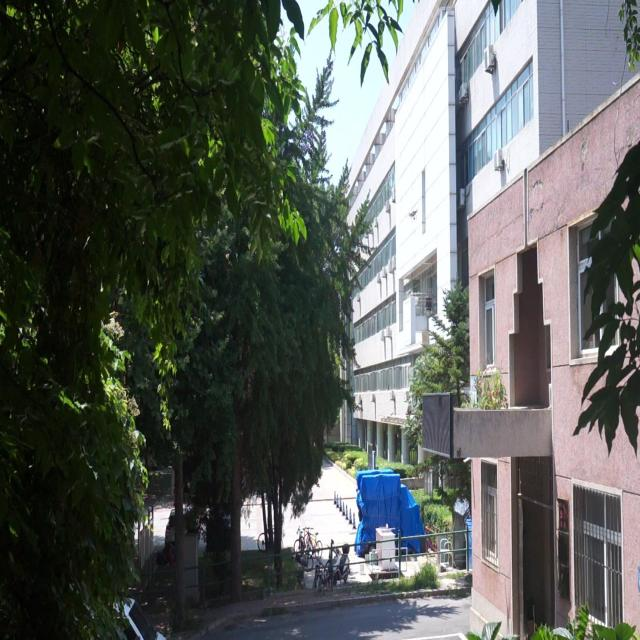drone: (405, 203, 420, 223)
